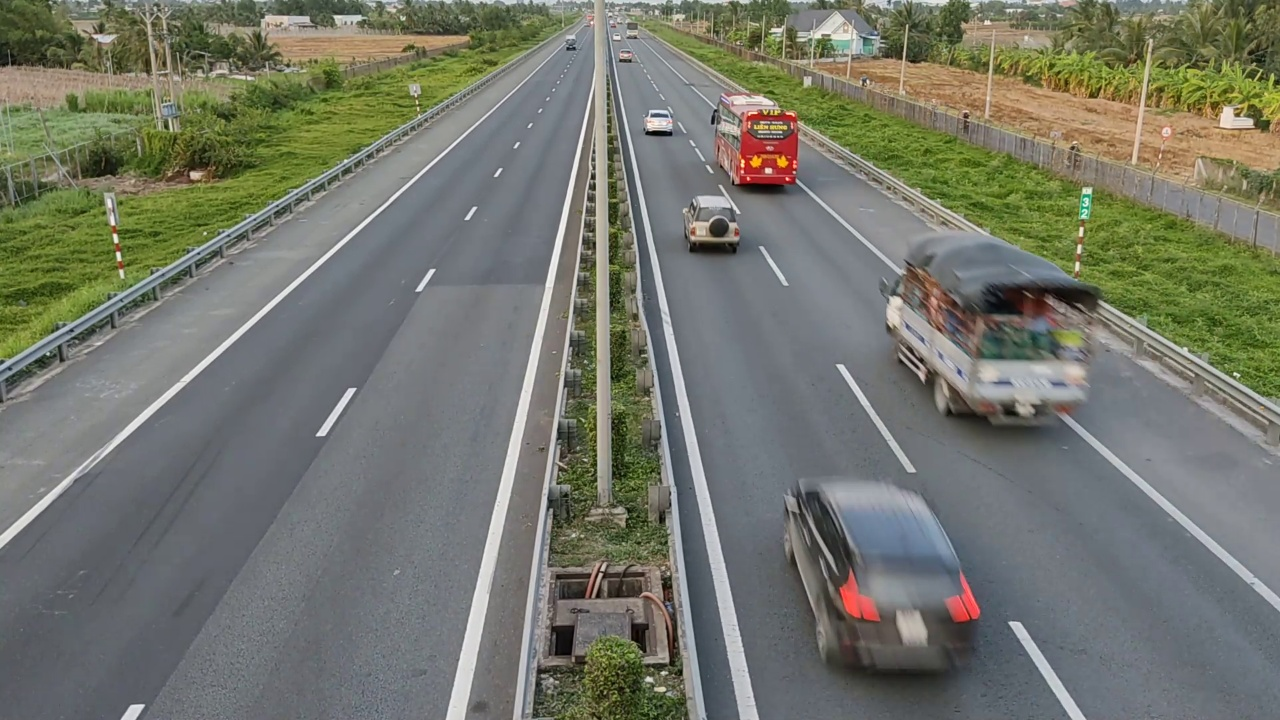bus: (712, 93, 801, 185)
car: (781, 475, 982, 675), (681, 192, 742, 252), (643, 107, 674, 135)
truck: (880, 220, 1101, 446)
